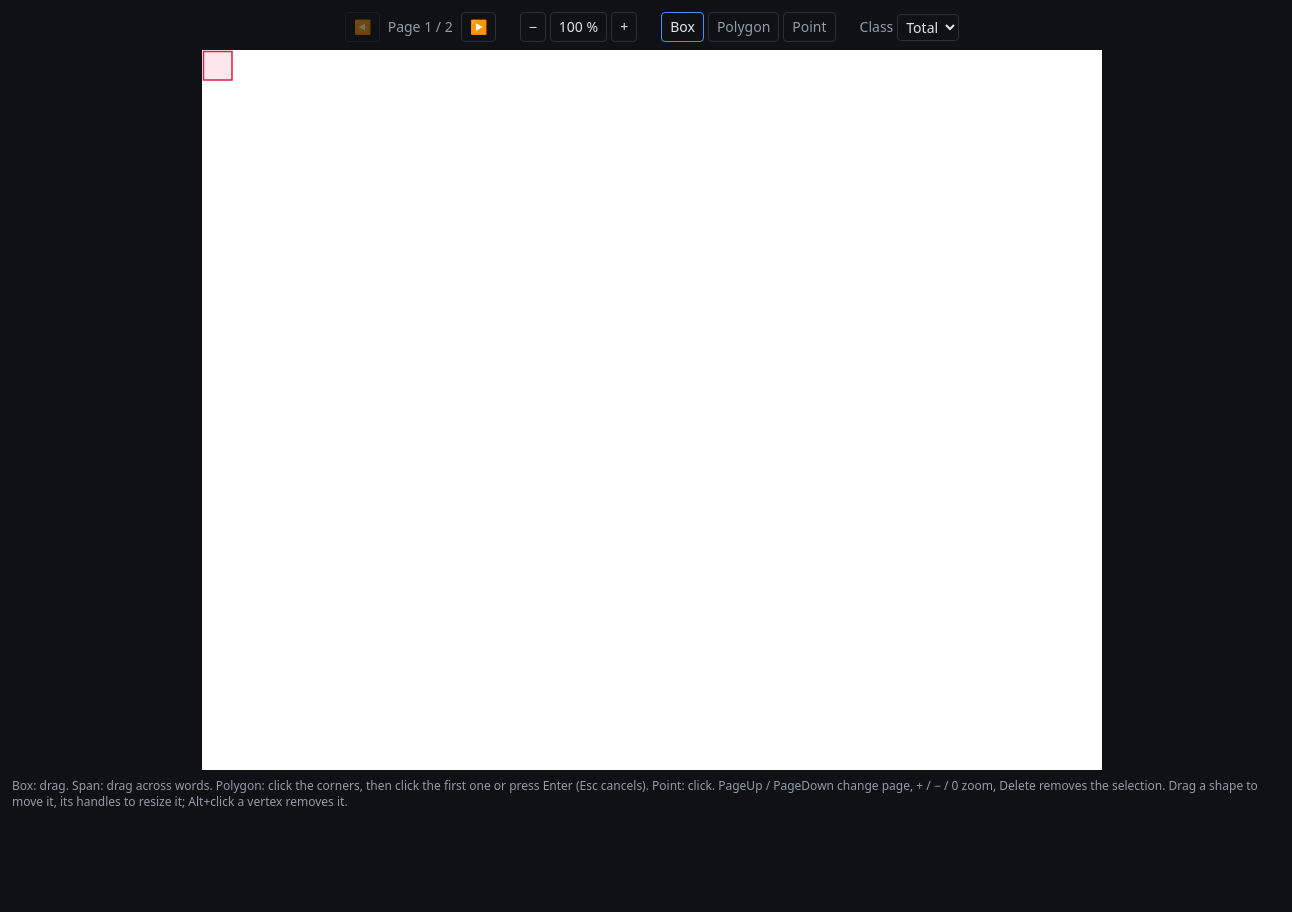
PdfAnnotator › shows each page its own shapes
Check: the element with test id "pdf-box-a" is shown, box x1=204 y1=52 x2=232 y2=80
Check: the button named "Previous page" is disabled, box x1=345 y1=12 x2=380 y2=42
Click the button named "Next page".
click(478, 27)  # box x1=461 y1=12 x2=496 y2=42
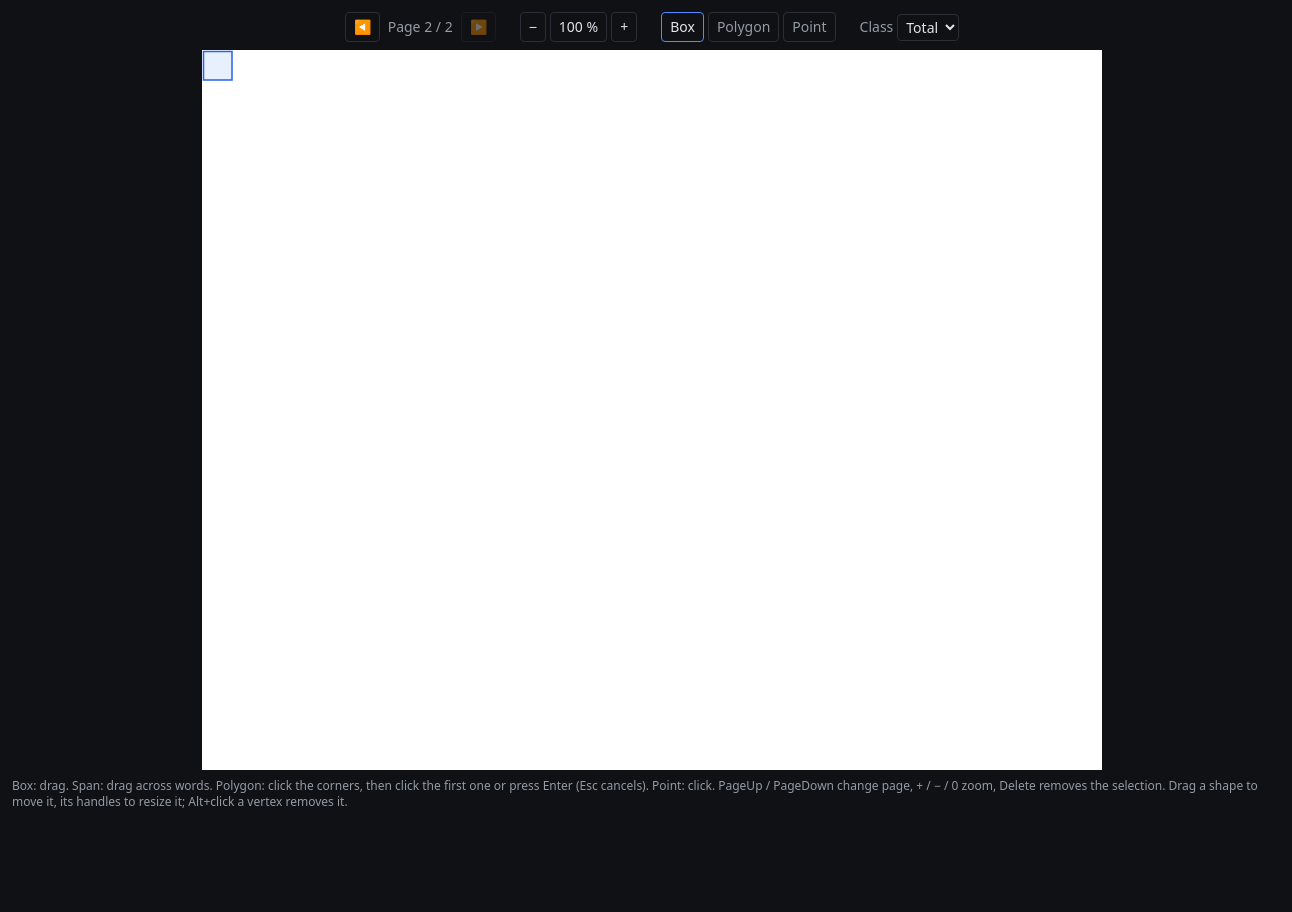
Check: the element with test id "pdf-box-b" is shown, box x1=204 y1=52 x2=232 y2=80
Check: the text with test id "page-counter" reads "Page 2 / 2", box x1=388 y1=17 x2=453 y2=36
Check: the button named "Next page" is disabled, box x1=461 y1=12 x2=496 y2=42
